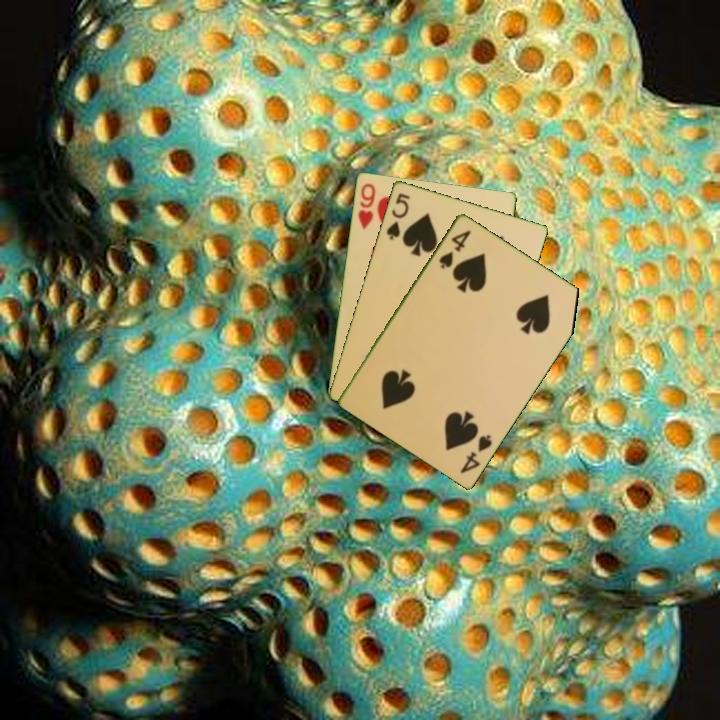4s: (435, 226, 474, 271), (457, 430, 495, 476)
5s: (382, 189, 413, 243)
9h: (354, 179, 378, 232)
